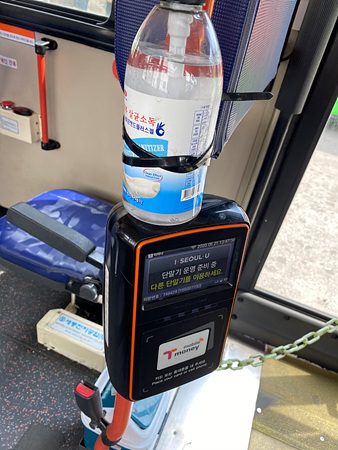terminal: (111, 201, 235, 388)
